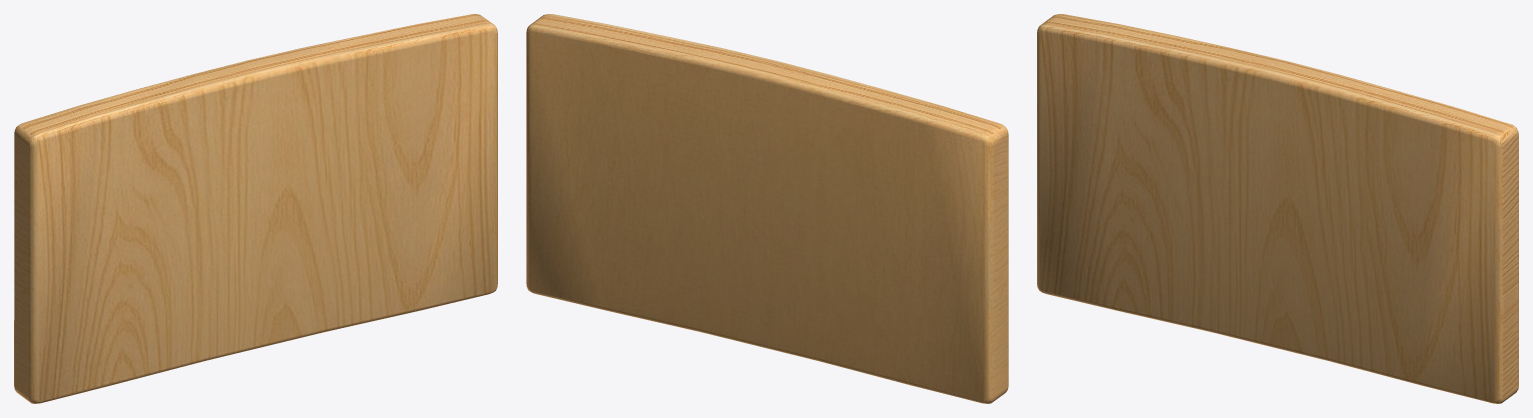
The model's file is board.glb.
3 renders of one model, left to right at view 1: azimuth 30°, elevation 25°; view 2: azimuth 150°, elevation 25°; view 3: azimuth 330°, elevation 25°, orthographic.
Visible parts, largest first — view 1: tripo_node_907d73f7-924f-4348-850e-8142c3f0a47a; view 2: tripo_node_907d73f7-924f-4348-850e-8142c3f0a47a; view 3: tripo_node_907d73f7-924f-4348-850e-8142c3f0a47a.
Boxes of the visible parts, x1,y1,x2,y2 form: tripo_node_907d73f7-924f-4348-850e-8142c3f0a47a: (14,14,497,403); tripo_node_907d73f7-924f-4348-850e-8142c3f0a47a: (526,14,1008,403); tripo_node_907d73f7-924f-4348-850e-8142c3f0a47a: (1037,14,1518,403).
Bounding box in the file's own units: 0.9995 × 0.5669 × 0.0796.
1 material, 1 textured.
